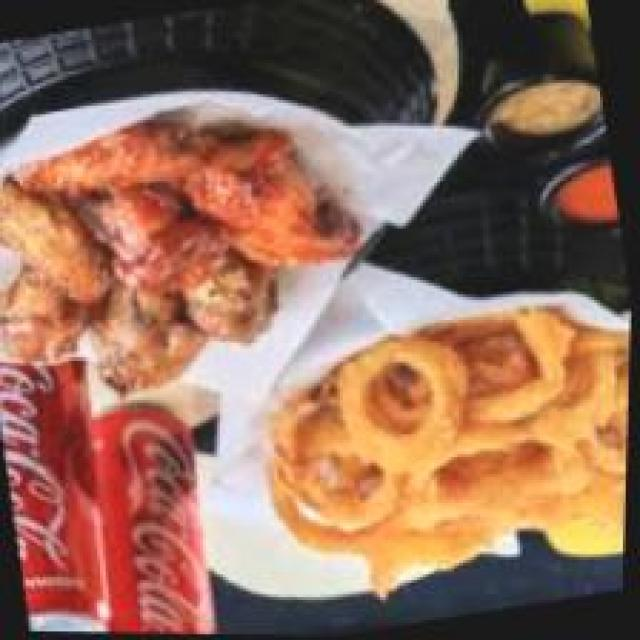Chicken Wings: (0, 74, 397, 429)
Onion Rings: (257, 308, 632, 608)
